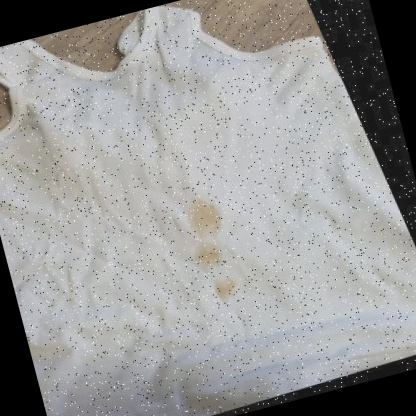coffee: (186, 196, 223, 237), (195, 242, 224, 270), (214, 275, 237, 299)
